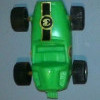verde: (14, 2, 87, 97)
